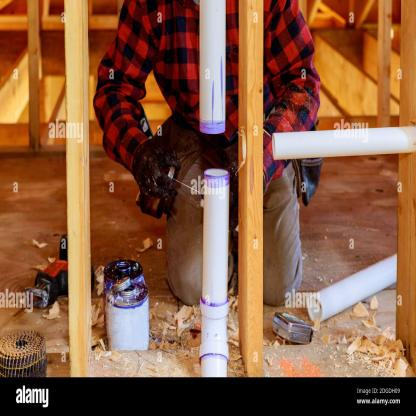PVC: (198, 168, 230, 377), (308, 254, 397, 326), (272, 127, 416, 159), (199, 1, 227, 136)
